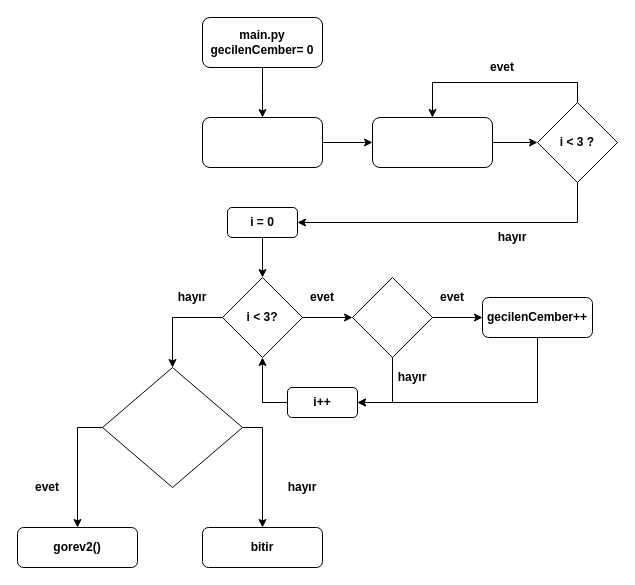
Some shapes in this 635 by 585 pixel diagram are drawn without their labels. Each missing label, with the centre of its shape:
"cemberTanila() i++" belongs at point 432,142.
"gecilenCember = 3 ?" belongs at point 172,427.
"sonuc = gorev1() i = 0" belongs at point 262,142.
"sonuc[i] = true?" belongs at point 392,317.
